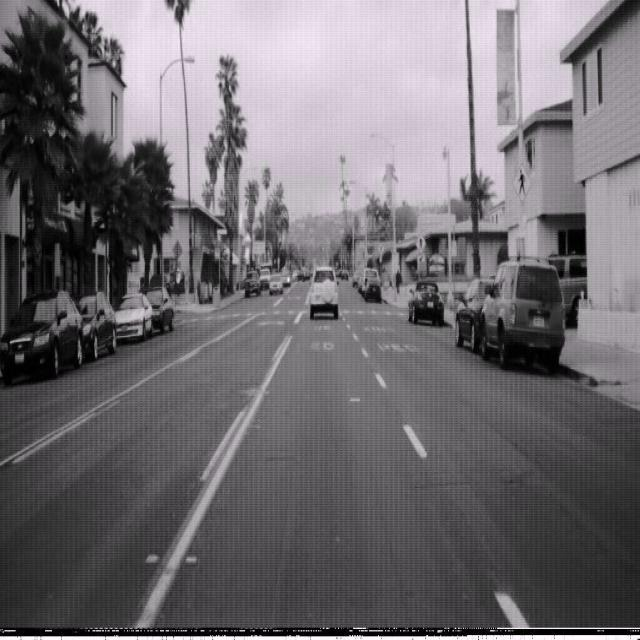pedestrianCrossing: (512, 160, 532, 203), (415, 232, 427, 256)
